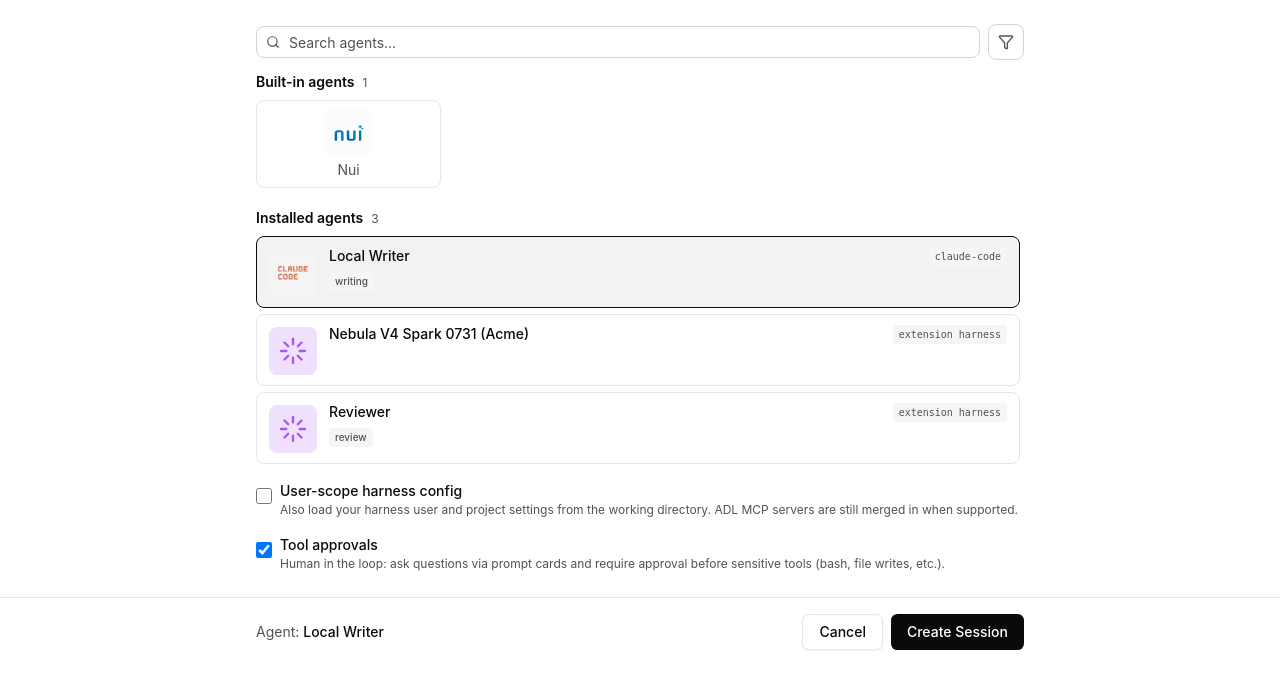
NewSessionPanel tag filter › shows built-ins only when All or Built-in source is active
Click the button named "Filters". click: (1006, 42)
box: [988, 24, 1024, 60]
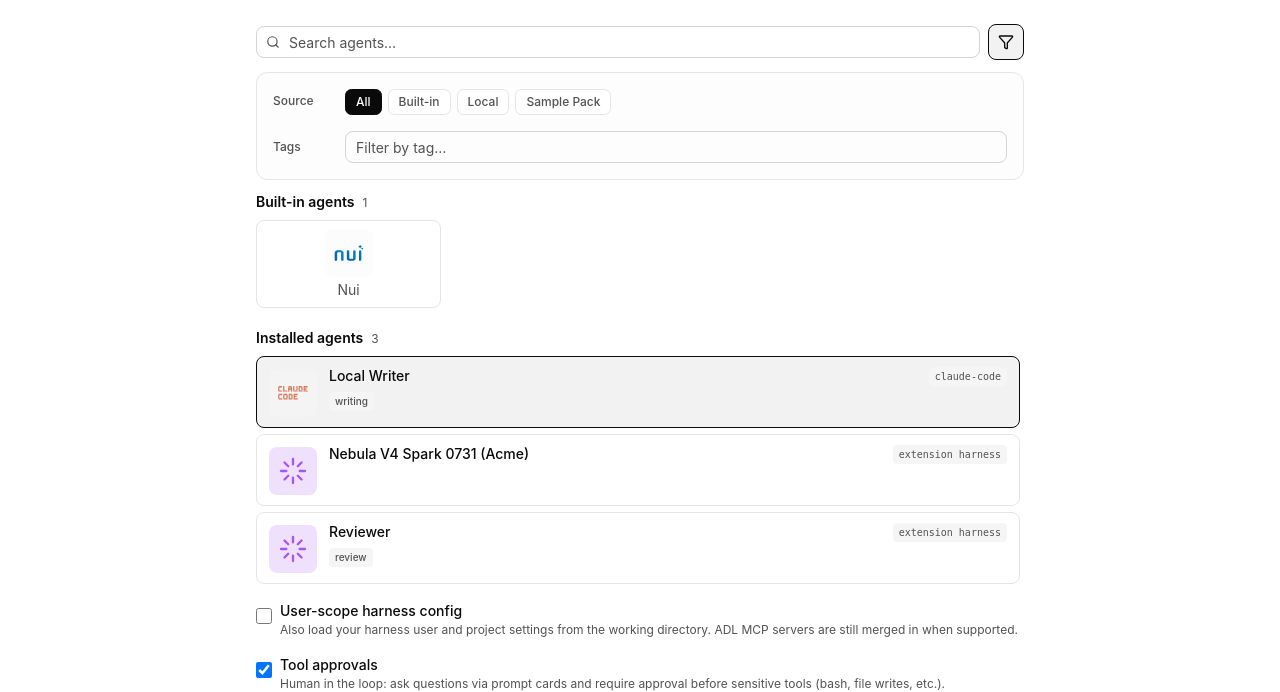
Expected: the button "Nui" is shown, [256, 220, 441, 308]
Now the dropdown with placeholder "Filter by tag…" is shown, box [345, 131, 1007, 163]
Click the button "Sample Pack". click: (564, 102)
box: [516, 89, 612, 115]
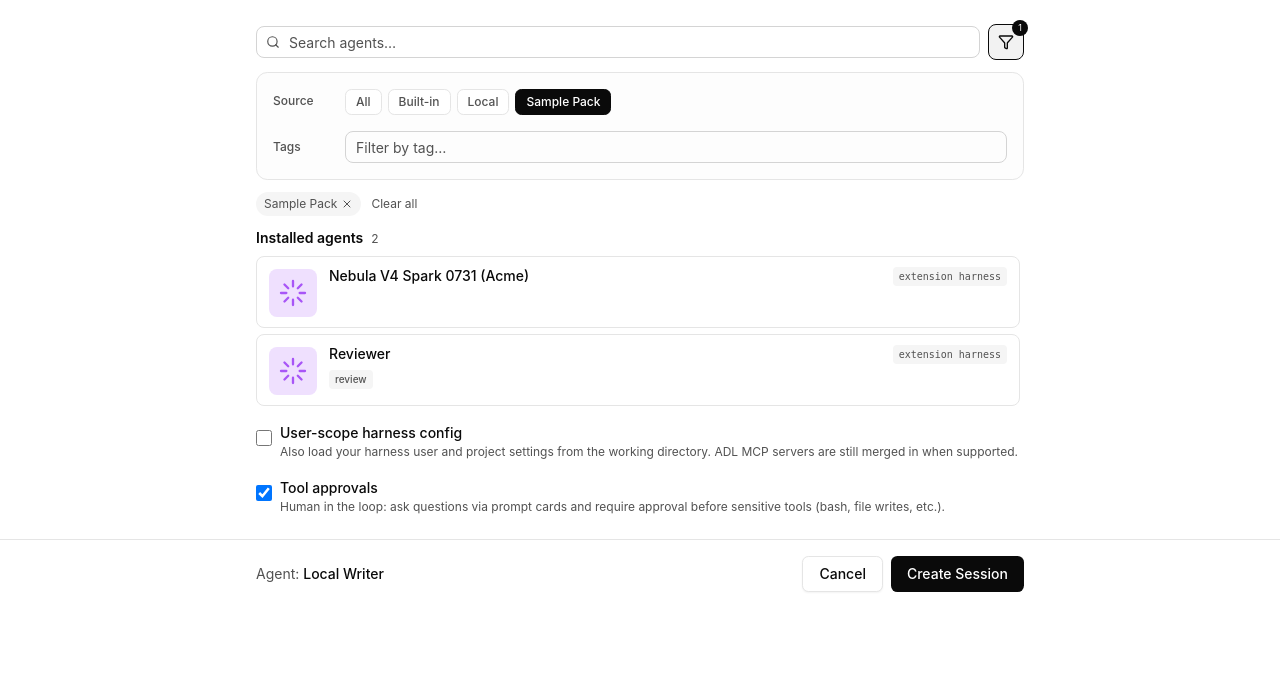
Now the button "Nui" is gone
Click the button "Built-in". click: (419, 102)
box: [388, 89, 451, 115]
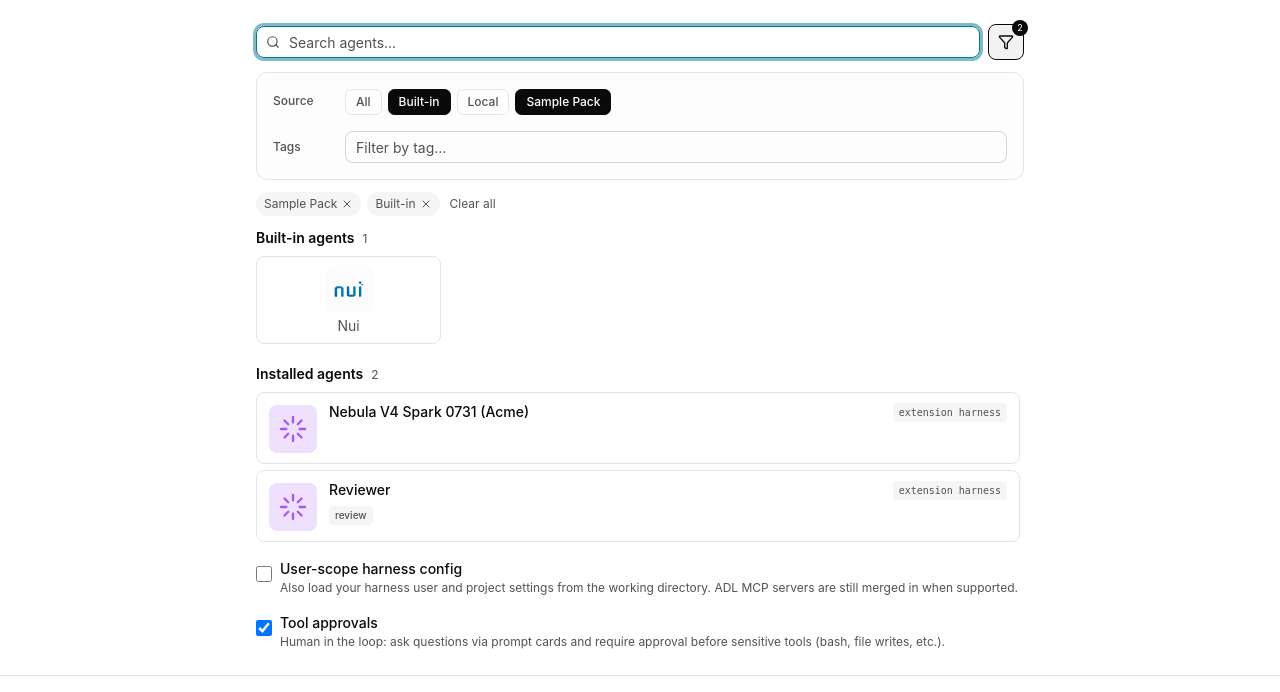
Now the button "Nui" is shown, box [256, 256, 441, 344]
